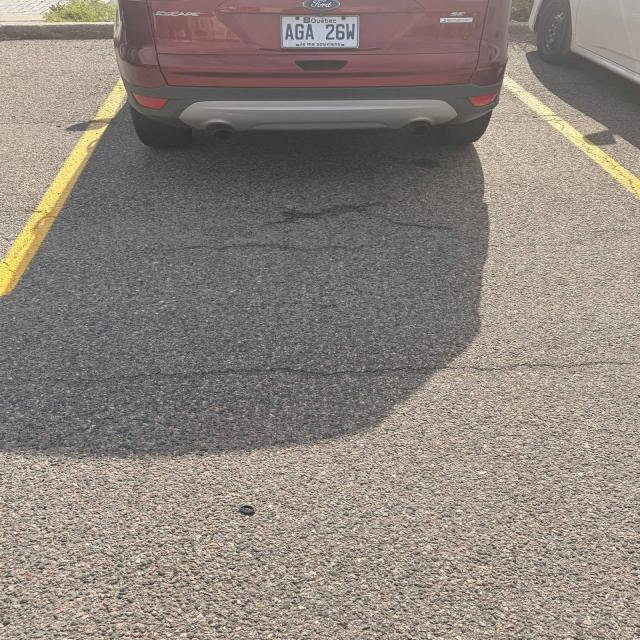plaque: (281, 16, 359, 48)
